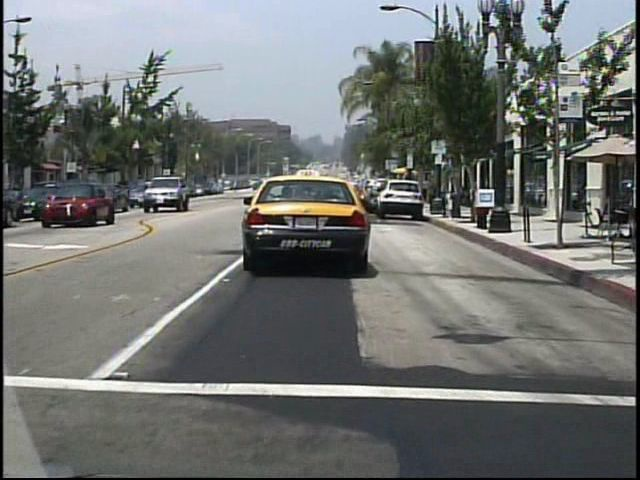person: (422, 176, 428, 198)
